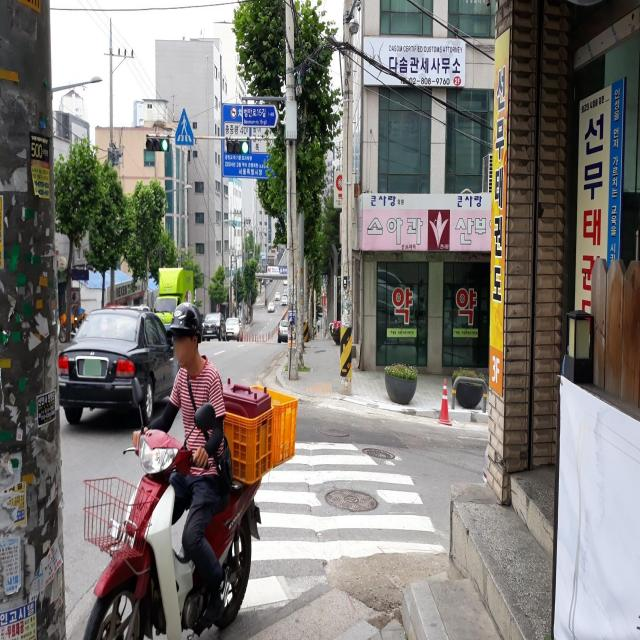횡단보도: (227, 439, 446, 613)
